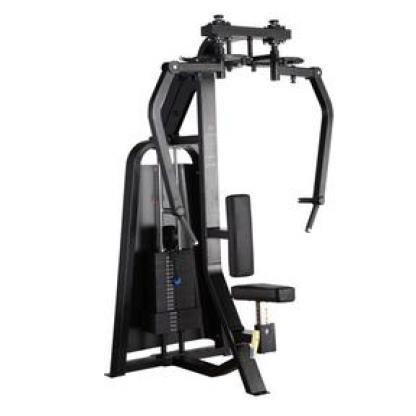chest fly machine: (82, 10, 342, 405)
